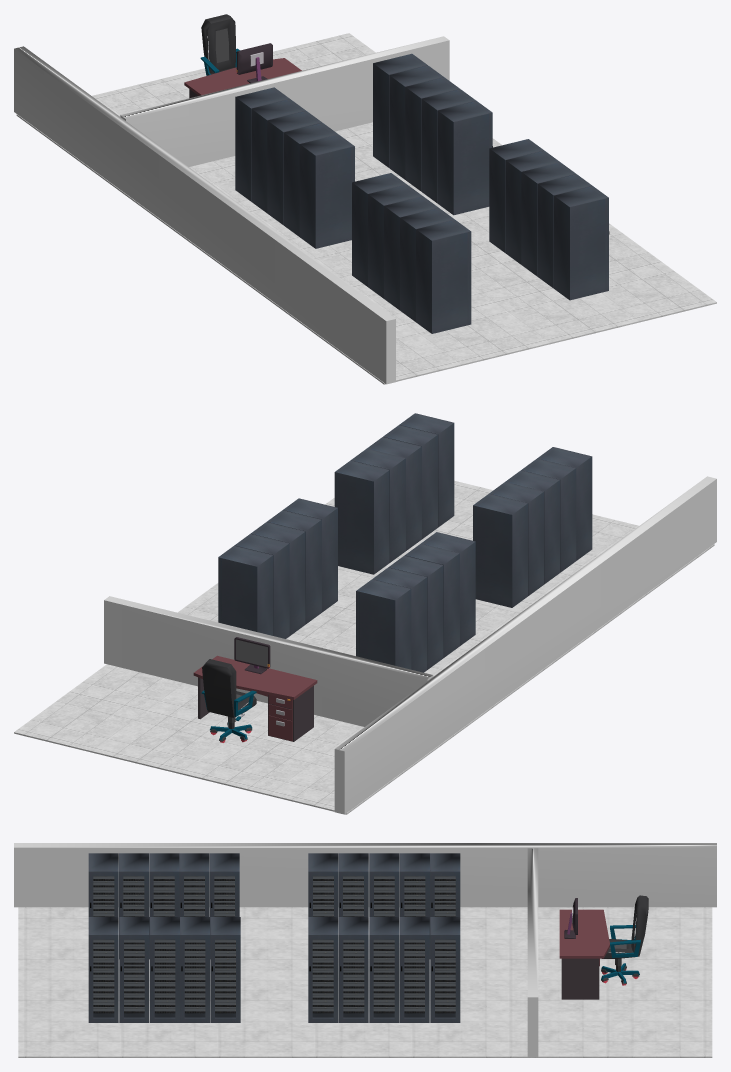
The picture shows the model from 3 angles, top to bottom: view 1: azimuth 30°, elevation 25°; view 2: azimuth 150°, elevation 25°; view 3: azimuth 270°, elevation 25°; orthographic projection. The views are drawn at different scales.
Visible parts, largest first — view 1: floor, Cube.001, Cube_1, body.015, body.006, body, body.001, body.003, body.017, body.011, body.007, body.002 (+14 smaller); view 2: floor, Cube.001, Cube_1, body.005, body.014, desk, body.011, body.019, chair, body.016, body, body.007 (+14 smaller); view 3: floor, Cube.001, desk, Cube_1, chair, glass, glass.006, glass.007, glass.009, glass.003, glass.004, glass.005 (+53 smaller).
Part boxes in pixels (x1,y1,x2,y2): floor: (16, 33, 716, 384); Cube.001: (14, 46, 395, 384); Cube_1: (120, 36, 449, 166); body.015: (299, 135, 351, 248); body.006: (437, 102, 489, 215); body: (554, 187, 605, 300); body.001: (416, 220, 467, 333); body.003: (521, 163, 572, 276); body.017: (267, 112, 318, 224); body.011: (373, 54, 424, 167); body.007: (421, 90, 472, 203); body.002: (537, 175, 588, 288); floor: (14, 480, 714, 814); Cube.001: (334, 476, 716, 814); Cube_1: (104, 596, 433, 726); body.005: (338, 461, 389, 574); body.014: (476, 494, 527, 607); desk: (193, 655, 317, 741); body.011: (221, 546, 273, 635); body.019: (360, 580, 411, 669); chair: (201, 659, 256, 742); body.016: (408, 544, 459, 657); body: (403, 414, 454, 527); body.007: (270, 511, 321, 624); floor: (18, 907, 712, 1057); Cube.001: (14, 843, 716, 907); desk: (559, 909, 609, 999); Cube_1: (527, 848, 538, 1056); chair: (601, 895, 648, 985); glass: (93, 939, 114, 1017); glass.006: (312, 939, 333, 1017); glass.007: (343, 939, 364, 1017); glass.009: (373, 939, 394, 1017); glass.003: (154, 939, 175, 1017); glass.004: (184, 939, 205, 1017); glass.005: (215, 939, 235, 1017).
Bounding box in the file's own units: 7.53 × 2.06 × 14.49.
8 materials, 6 textured.
